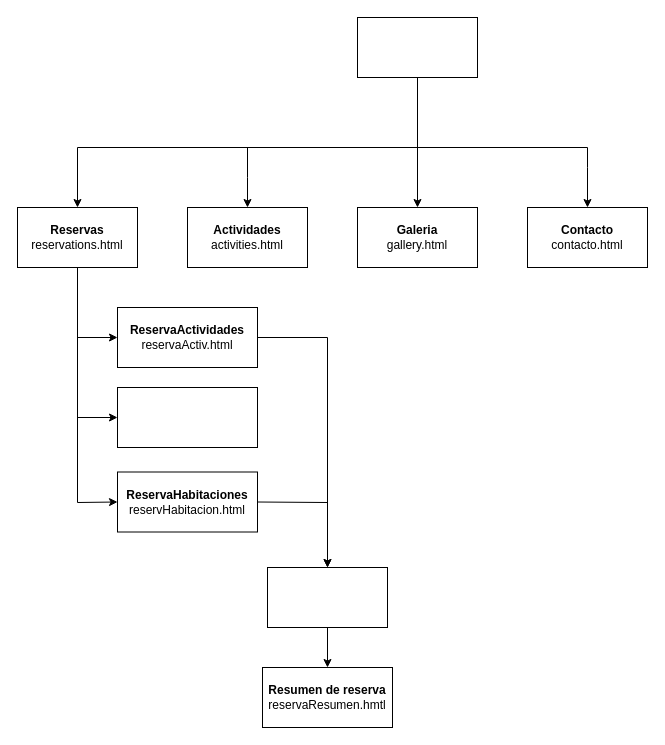
This 665x745 diagram has some shape labels left out. Here are the shapes that lost their labels. From the top down, the centre of each, then its label:
[417,47]: HOME PAGE index.php
[187,417]: ReservaRestaurante reservRestaurant.html
[327,597]: Pago por internet onlinePayment.hmtl
